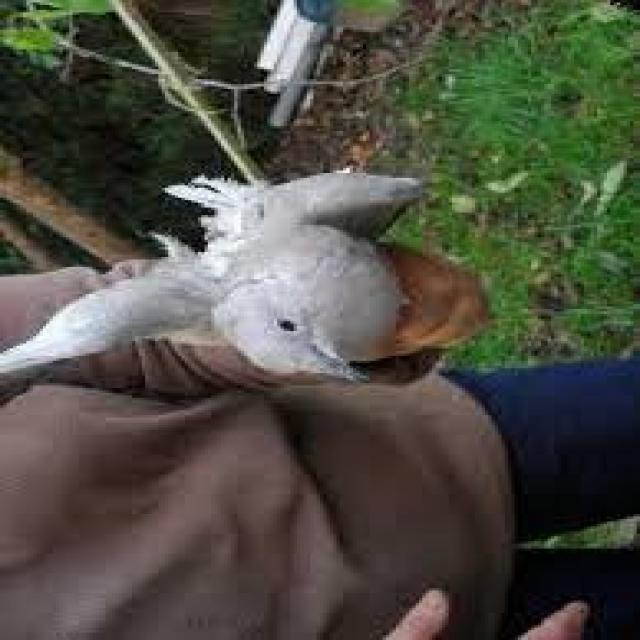pigeon: (1, 136, 448, 400)
